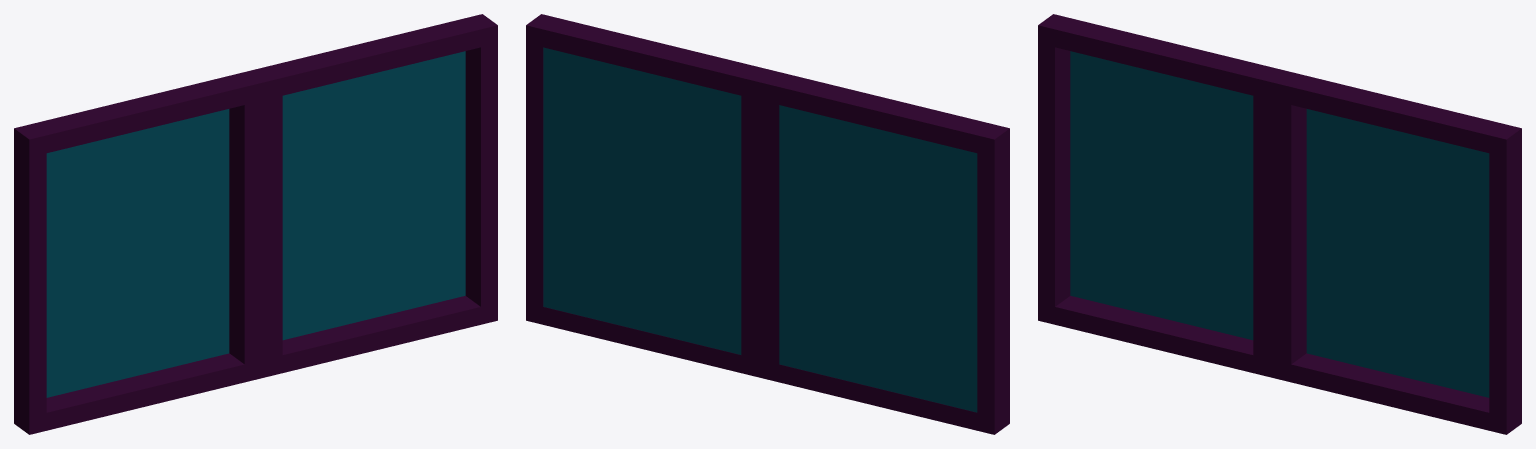
The model's file is Arcade_Windowposter.FBX.
3 renders of one model, left to right at view 1: azimuth 30°, elevation 25°; view 2: azimuth 150°, elevation 25°; view 3: azimuth 330°, elevation 25°, orthographic.
Visible parts, largest first — view 1: Rectangle001; view 2: Rectangle001; view 3: Rectangle001.
Boxes of the visible parts, x1,y1,x2,y2 form: Rectangle001: (14,14,497,434); Rectangle001: (526,14,1009,434); Rectangle001: (1038,14,1521,434).
Size of the model in its own units: 10.39 by 6.26 by 0.5922.
